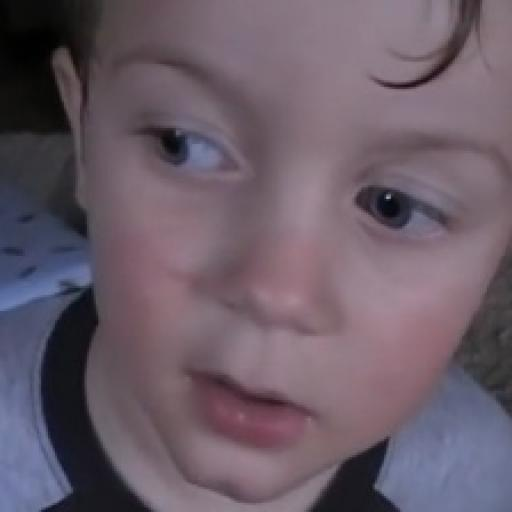Autism: (54, 22, 512, 512)
